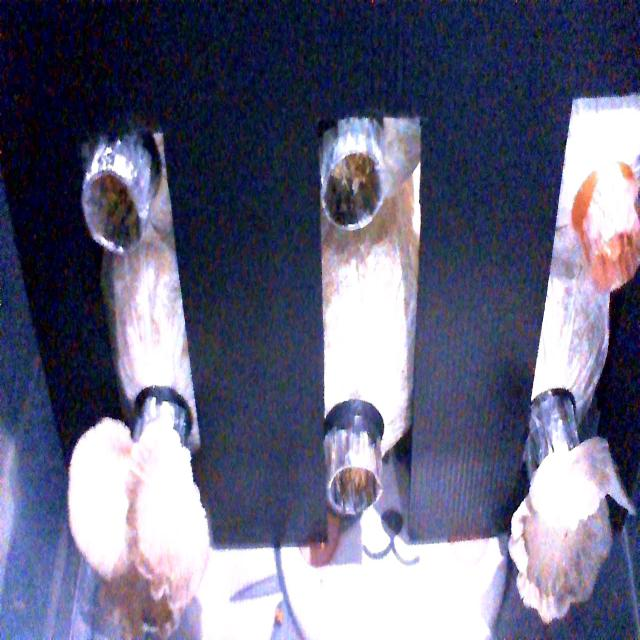big: (52, 402, 225, 630), (490, 427, 638, 625)
nfound: (75, 144, 164, 257), (588, 195, 640, 322), (319, 443, 393, 531), (321, 143, 395, 230)
